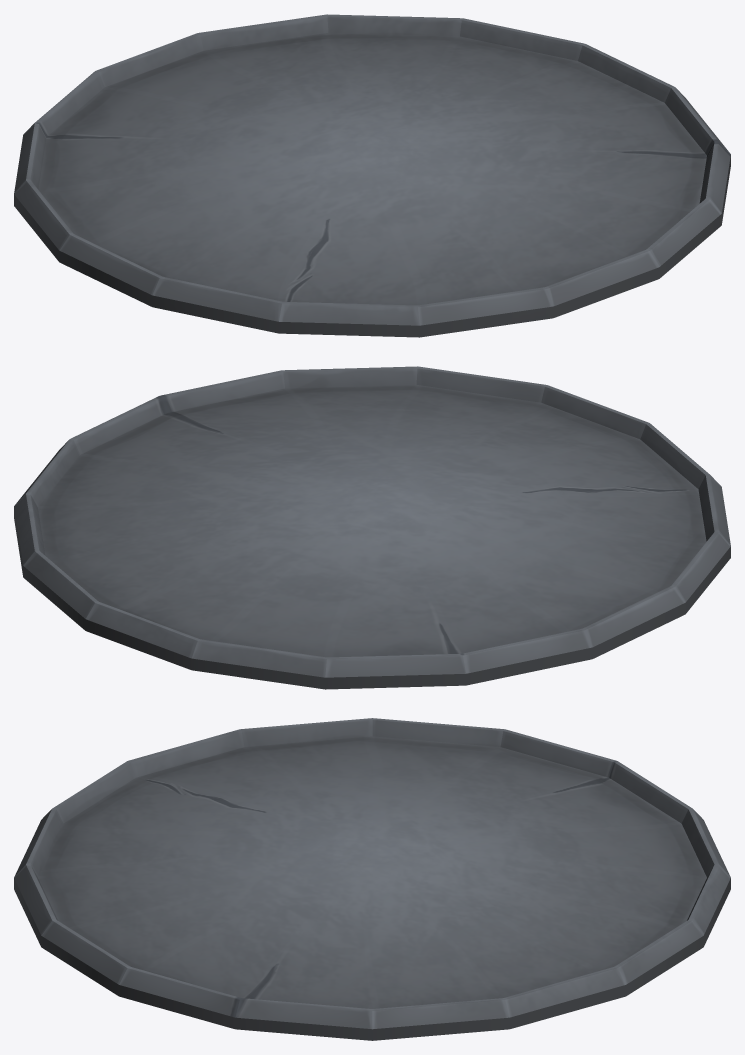
File: steenschild.FBX
The picture shows the model from 3 angles, top to bottom: view 1: azimuth 30°, elevation 25°; view 2: azimuth 150°, elevation 25°; view 3: azimuth 270°, elevation 25°; orthographic projection.
Visible parts, largest first — view 1: Cylinder001; view 2: Cylinder001; view 3: Cylinder001.
Part boxes in pixels (<box>): Cylinder001: <box>14,14,730,337</box>; Cylinder001: <box>14,366,730,689</box>; Cylinder001: <box>14,718,730,1040</box>.
Size of the model in its own units: 42.18 by 2.6 by 42.18.
1 material, 1 textured.
